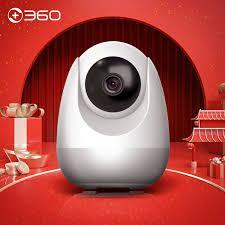maru: (48, 38, 179, 200)
